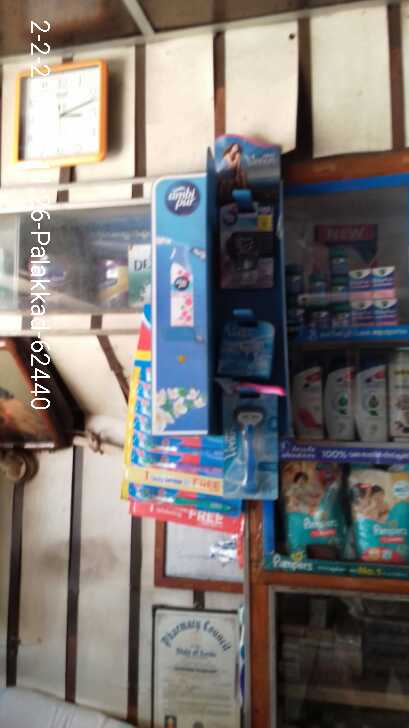beauty: (221, 399, 280, 511), (220, 313, 274, 377), (321, 354, 351, 443), (388, 345, 408, 446), (298, 357, 322, 441), (361, 355, 384, 441)
pharmacy: (345, 461, 409, 562), (281, 462, 345, 554), (347, 299, 400, 328), (350, 265, 394, 297)
